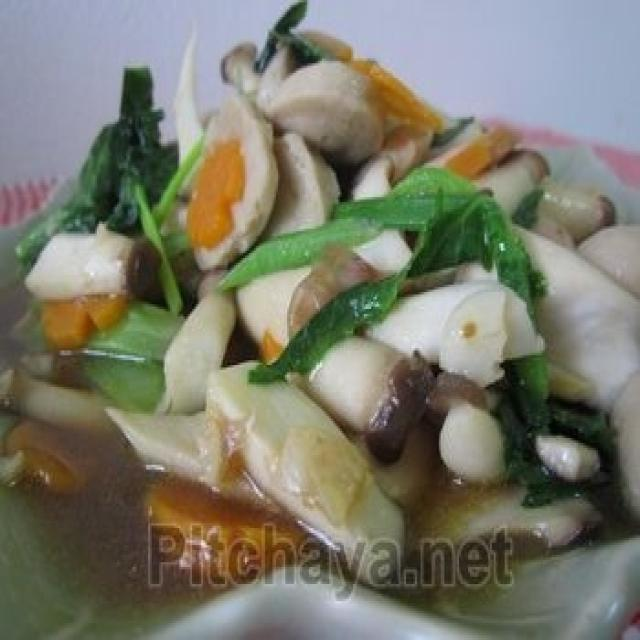蔬菜料理: (51, 34, 593, 606)
